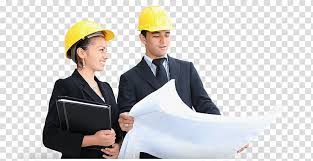Person_wearing_helmet: (61, 19, 116, 61), (133, 3, 173, 39)
